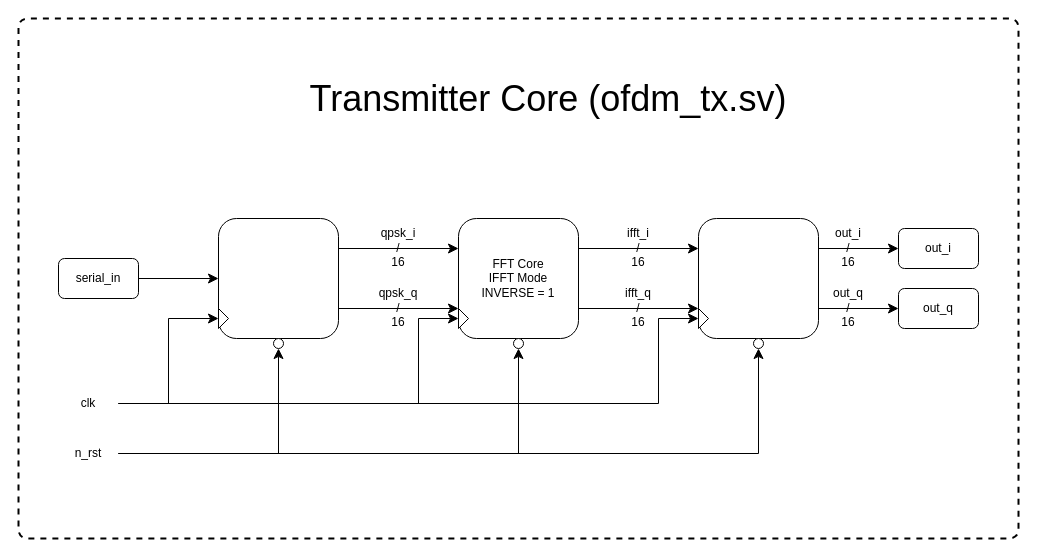
This 1037x557 diagram has some shape labels left out. Each missing label, with the box of its shape:
Cyclic Prefix Handler Insert Mode TRIM = 0: (698, 218, 818, 338)
QPSK Mapper: (218, 218, 338, 338)
